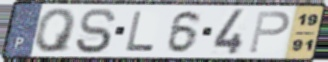4: (211, 7, 246, 57)
6: (166, 9, 204, 54)
L: (124, 10, 157, 53)
P: (246, 10, 291, 55)
Q: (34, 7, 79, 54)
S: (72, 7, 118, 55)
